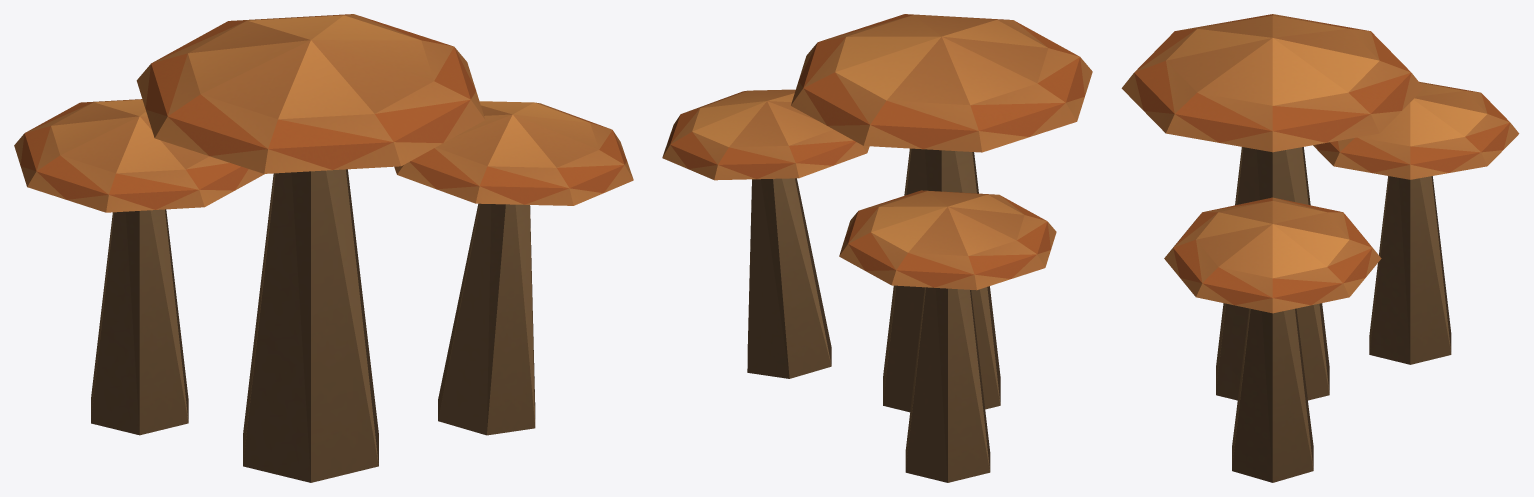
Rendered from Mushroom_Gr_1A.fbx.
3 views of the same model, side by side, from view 1: azimuth 30°, elevation 25°; view 2: azimuth 150°, elevation 25°; view 3: azimuth 270°, elevation 25° (orthographic). The views are drawn at different scales.
Visible parts, largest first — view 1: polySurface702; view 2: polySurface702; view 3: polySurface702.
Boxes of the visible parts, x1,y1,x2,y2 form: polySurface702: (14,14,633,482); polySurface702: (662,14,1092,482); polySurface702: (1121,14,1519,482).
Size of the model in its own units: 143 by 112 by 115.
1 material, 1 textured.
